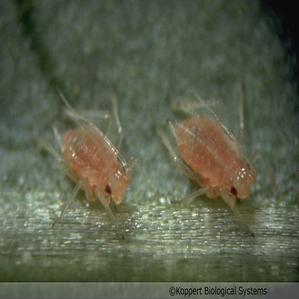Green peach aphid: (27, 84, 147, 235), (161, 75, 270, 234)
